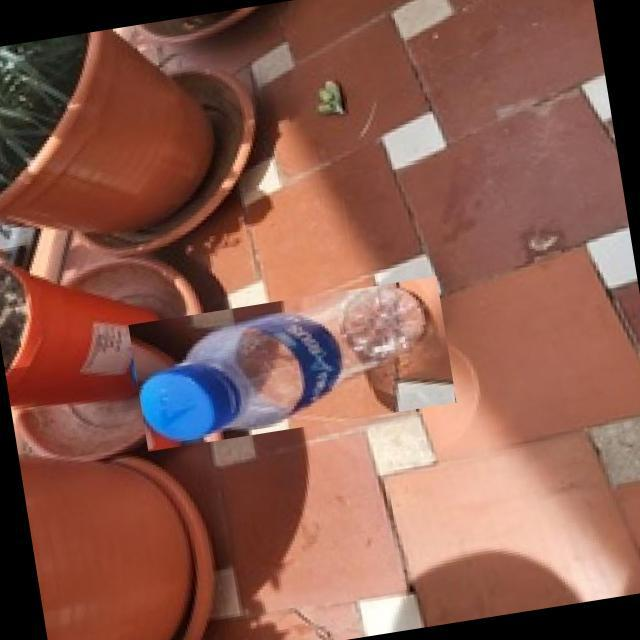good: (128, 276, 456, 452)
